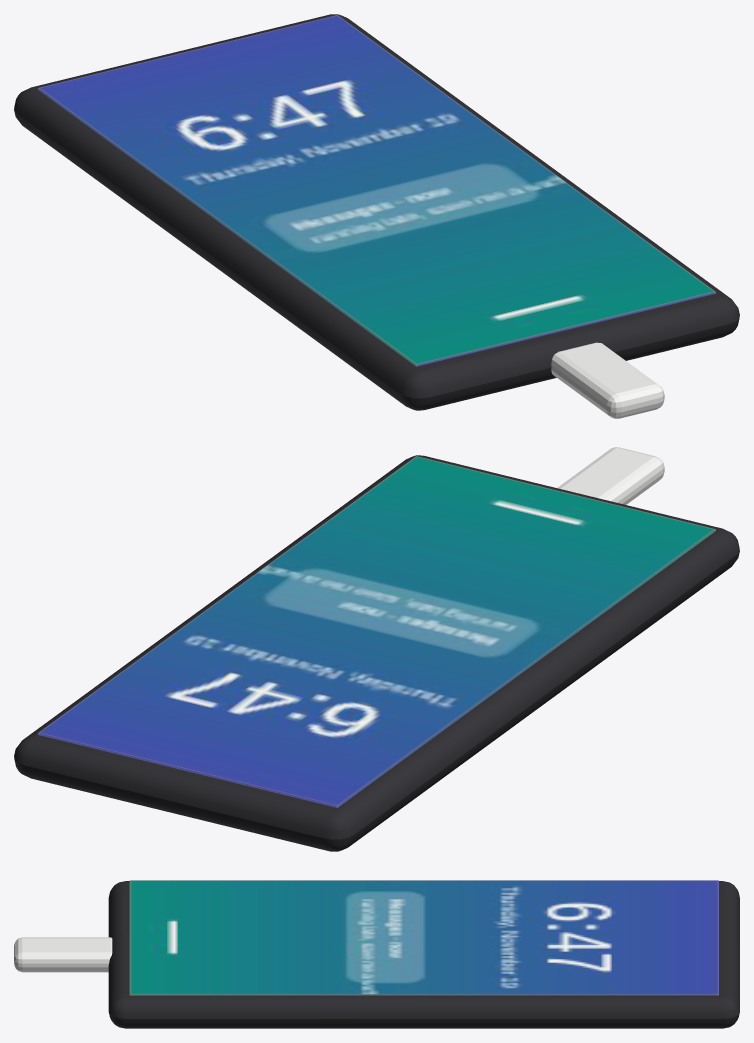
The model's file is hotel-phone.glb.
3 views of the same model, one above another, from view 1: azimuth 30°, elevation 25°; view 2: azimuth 150°, elevation 25°; view 3: azimuth 270°, elevation 25° (orthographic). The views are drawn at different scales.
Parts seen in each view (by area): view 1: phone_lit, black_plastic, cable_white; view 2: phone_lit, black_plastic, cable_white; view 3: phone_lit, black_plastic, cable_white.
Part boxes in pixels (x1=…): phone_lit: x1=38, y1=15, x2=715, y2=366; black_plastic: x1=14, y1=14, x2=739, y2=410; cable_white: x1=551, y1=342, x2=664, y2=418; phone_lit: x1=38, y1=456, x2=715, y2=807; black_plastic: x1=14, y1=455, x2=739, y2=851; cable_white: x1=557, y1=447, x2=664, y2=504; phone_lit: x1=129, y1=880, x2=718, y2=995; black_plastic: x1=108, y1=881, x2=739, y2=1028; cable_white: x1=14, y1=937, x2=112, y2=972.
Size of the model in its own units: 0.072 by 0.0101 by 0.1725.
Materials: 4 (1 with a texture image).
